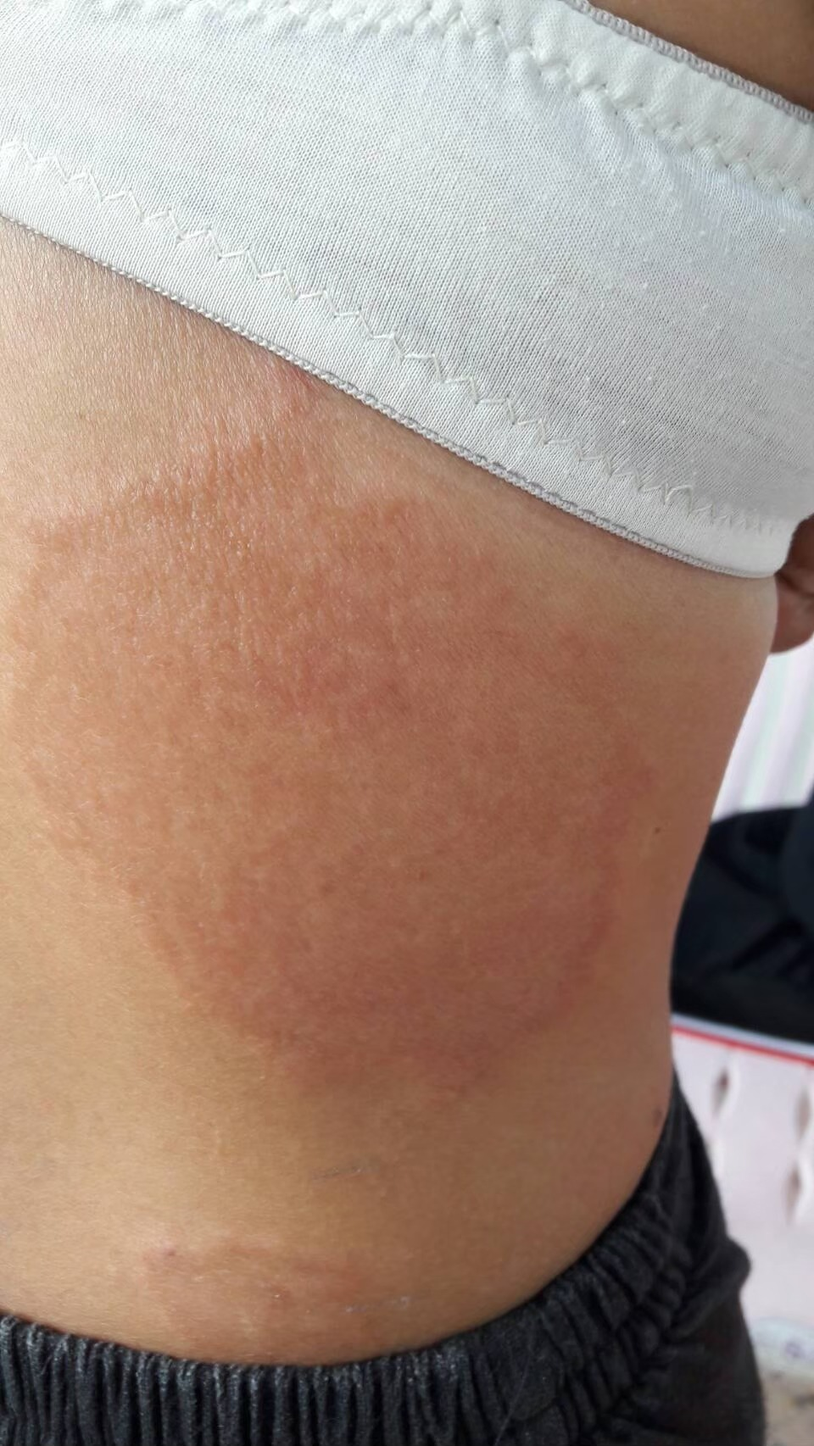Leprosy: (31, 439, 658, 1120), (157, 1214, 450, 1365)
